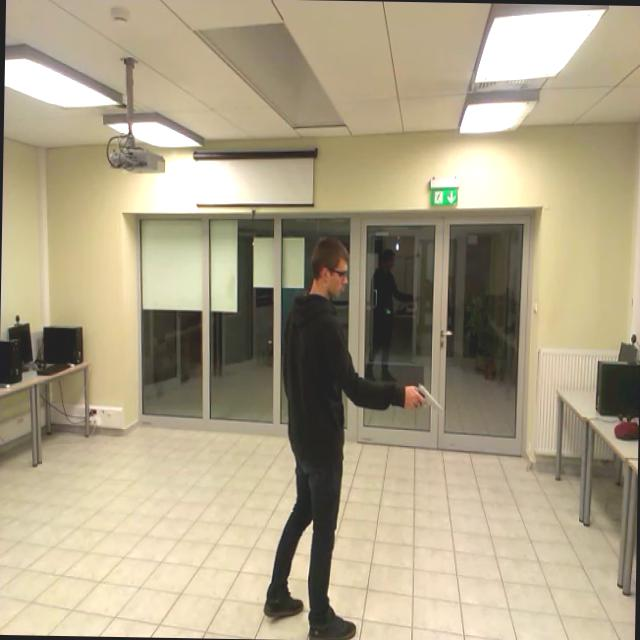handgun: (407, 367, 447, 425)
